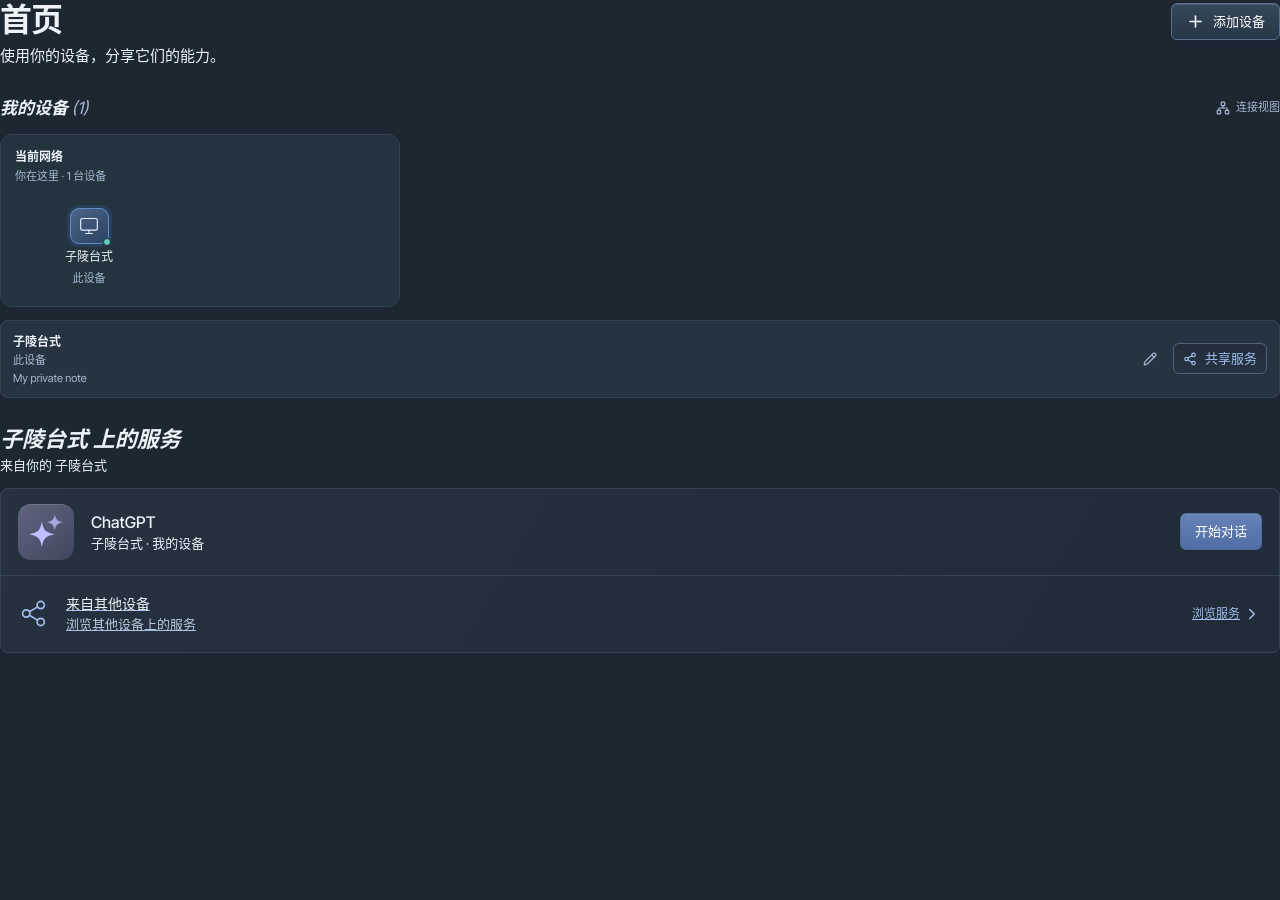
Test: translates the screenshot's home content immediately while preserving names and notes
Check: the button "添加设备" is shown, box [1171, 3, 1279, 40]
Check: the text "当前网络" is shown, box [15, 149, 63, 164]
Click the button named "编辑 子陵台式": click(1150, 359) [1134, 343, 1166, 375]
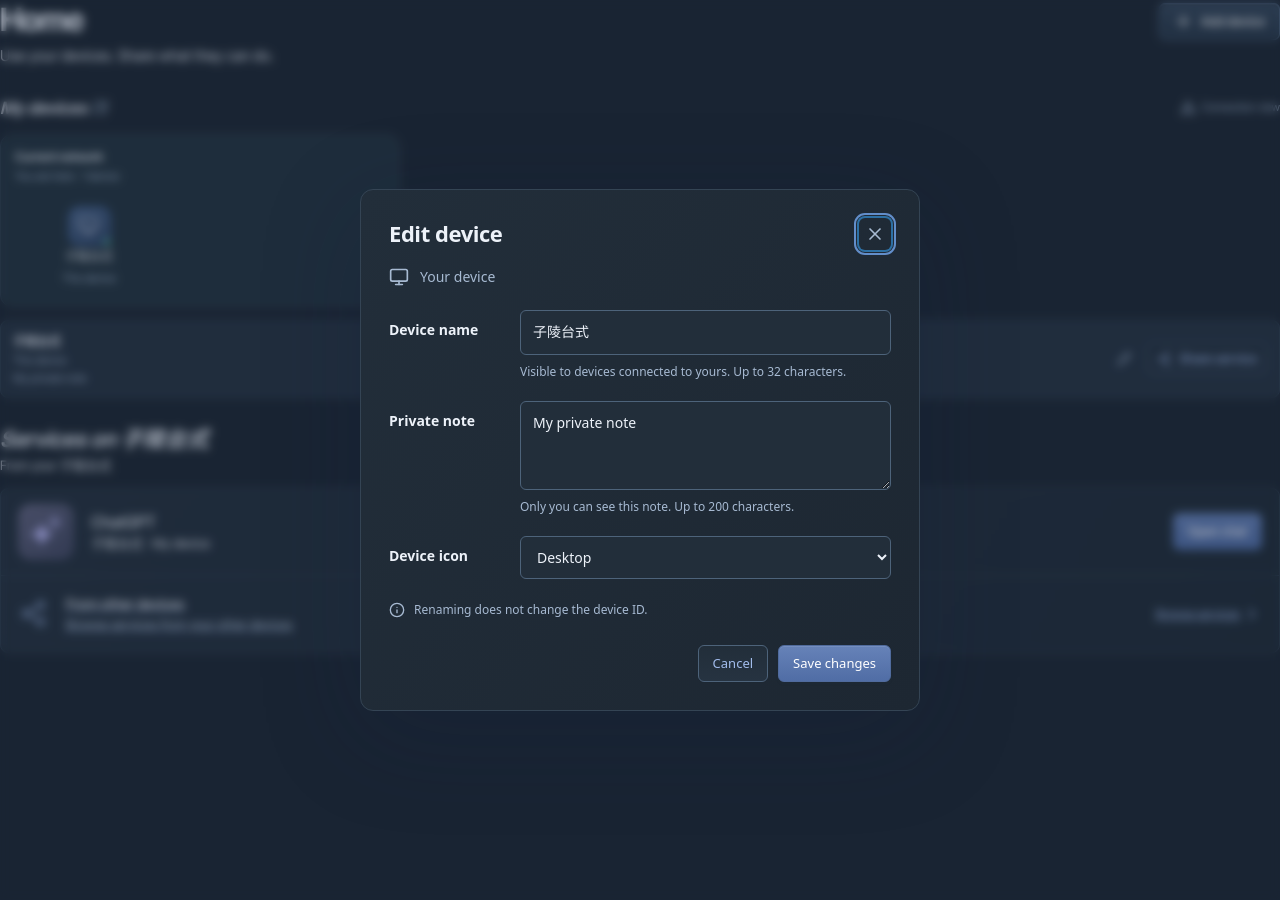
Check: the dialog named "编辑设备" is shown, box [360, 189, 920, 711]
Check: the button "Save changes" is shown, box [778, 645, 891, 682]
